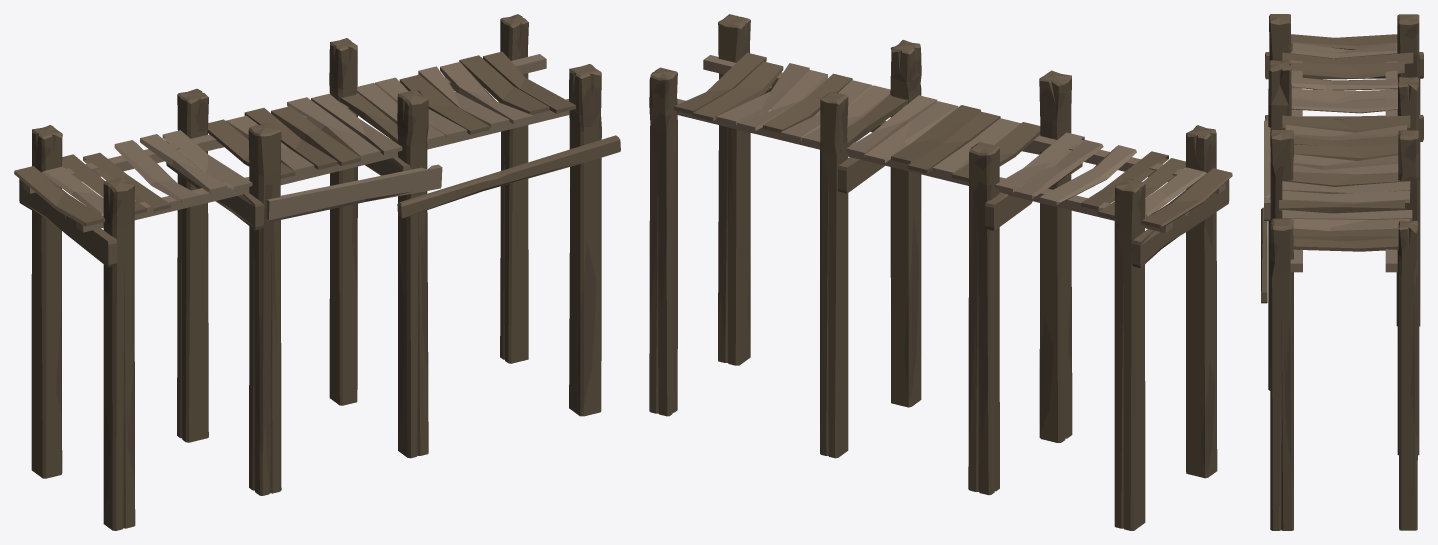
Rendered from kingdom_SM_Env_Structure_03.gltf.
3 renders of one model, left to right at view 1: azimuth 30°, elevation 25°; view 2: azimuth 150°, elevation 25°; view 3: azimuth 270°, elevation 25°, orthographic. The views are drawn at different scales.
Visible parts, largest first — view 1: SM_Env_Structure_03; view 2: SM_Env_Structure_03; view 3: SM_Env_Structure_03.
Boxes of the visible parts, x1=… form: SM_Env_Structure_03: x1=14, y1=14, x2=620, y2=530; SM_Env_Structure_03: x1=649, y1=14, x2=1232, y2=530; SM_Env_Structure_03: x1=1261, y1=14, x2=1423, y2=530.
Bounding box in the file's own units: 5.51 × 3.63 × 1.66.
1 material, 1 textured.
